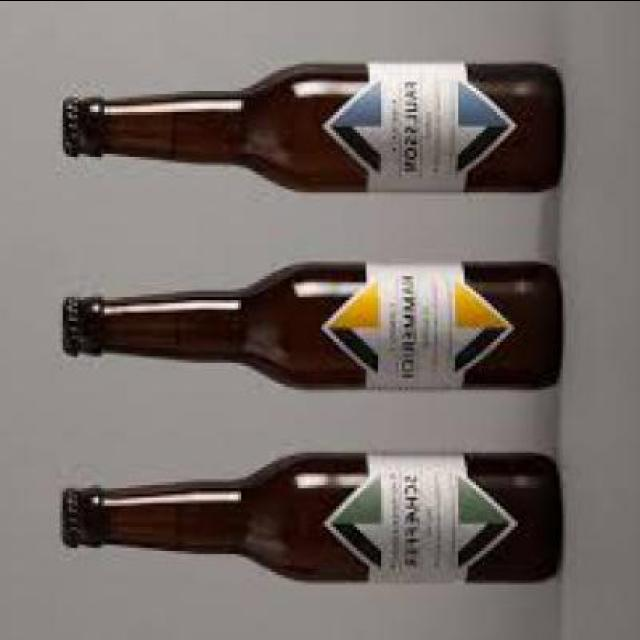kaca: (74, 446, 560, 578), (78, 257, 560, 389), (74, 58, 560, 188)
